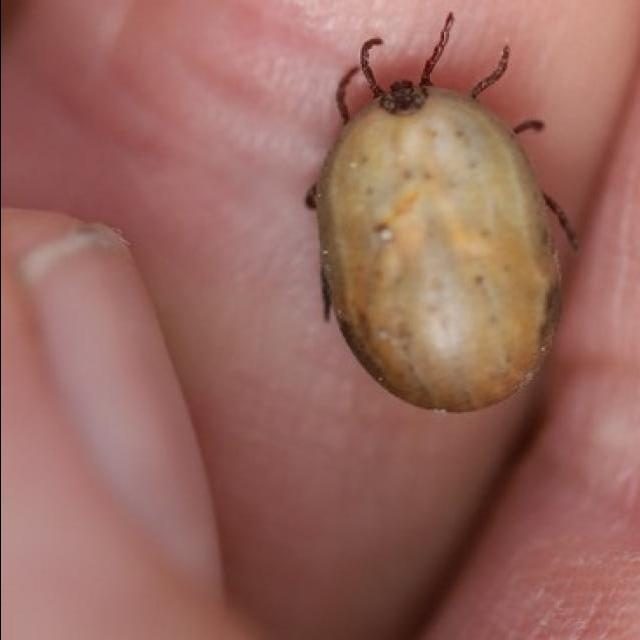Dermacentor Reticulatus-F-Fed: (303, 12, 579, 414)
